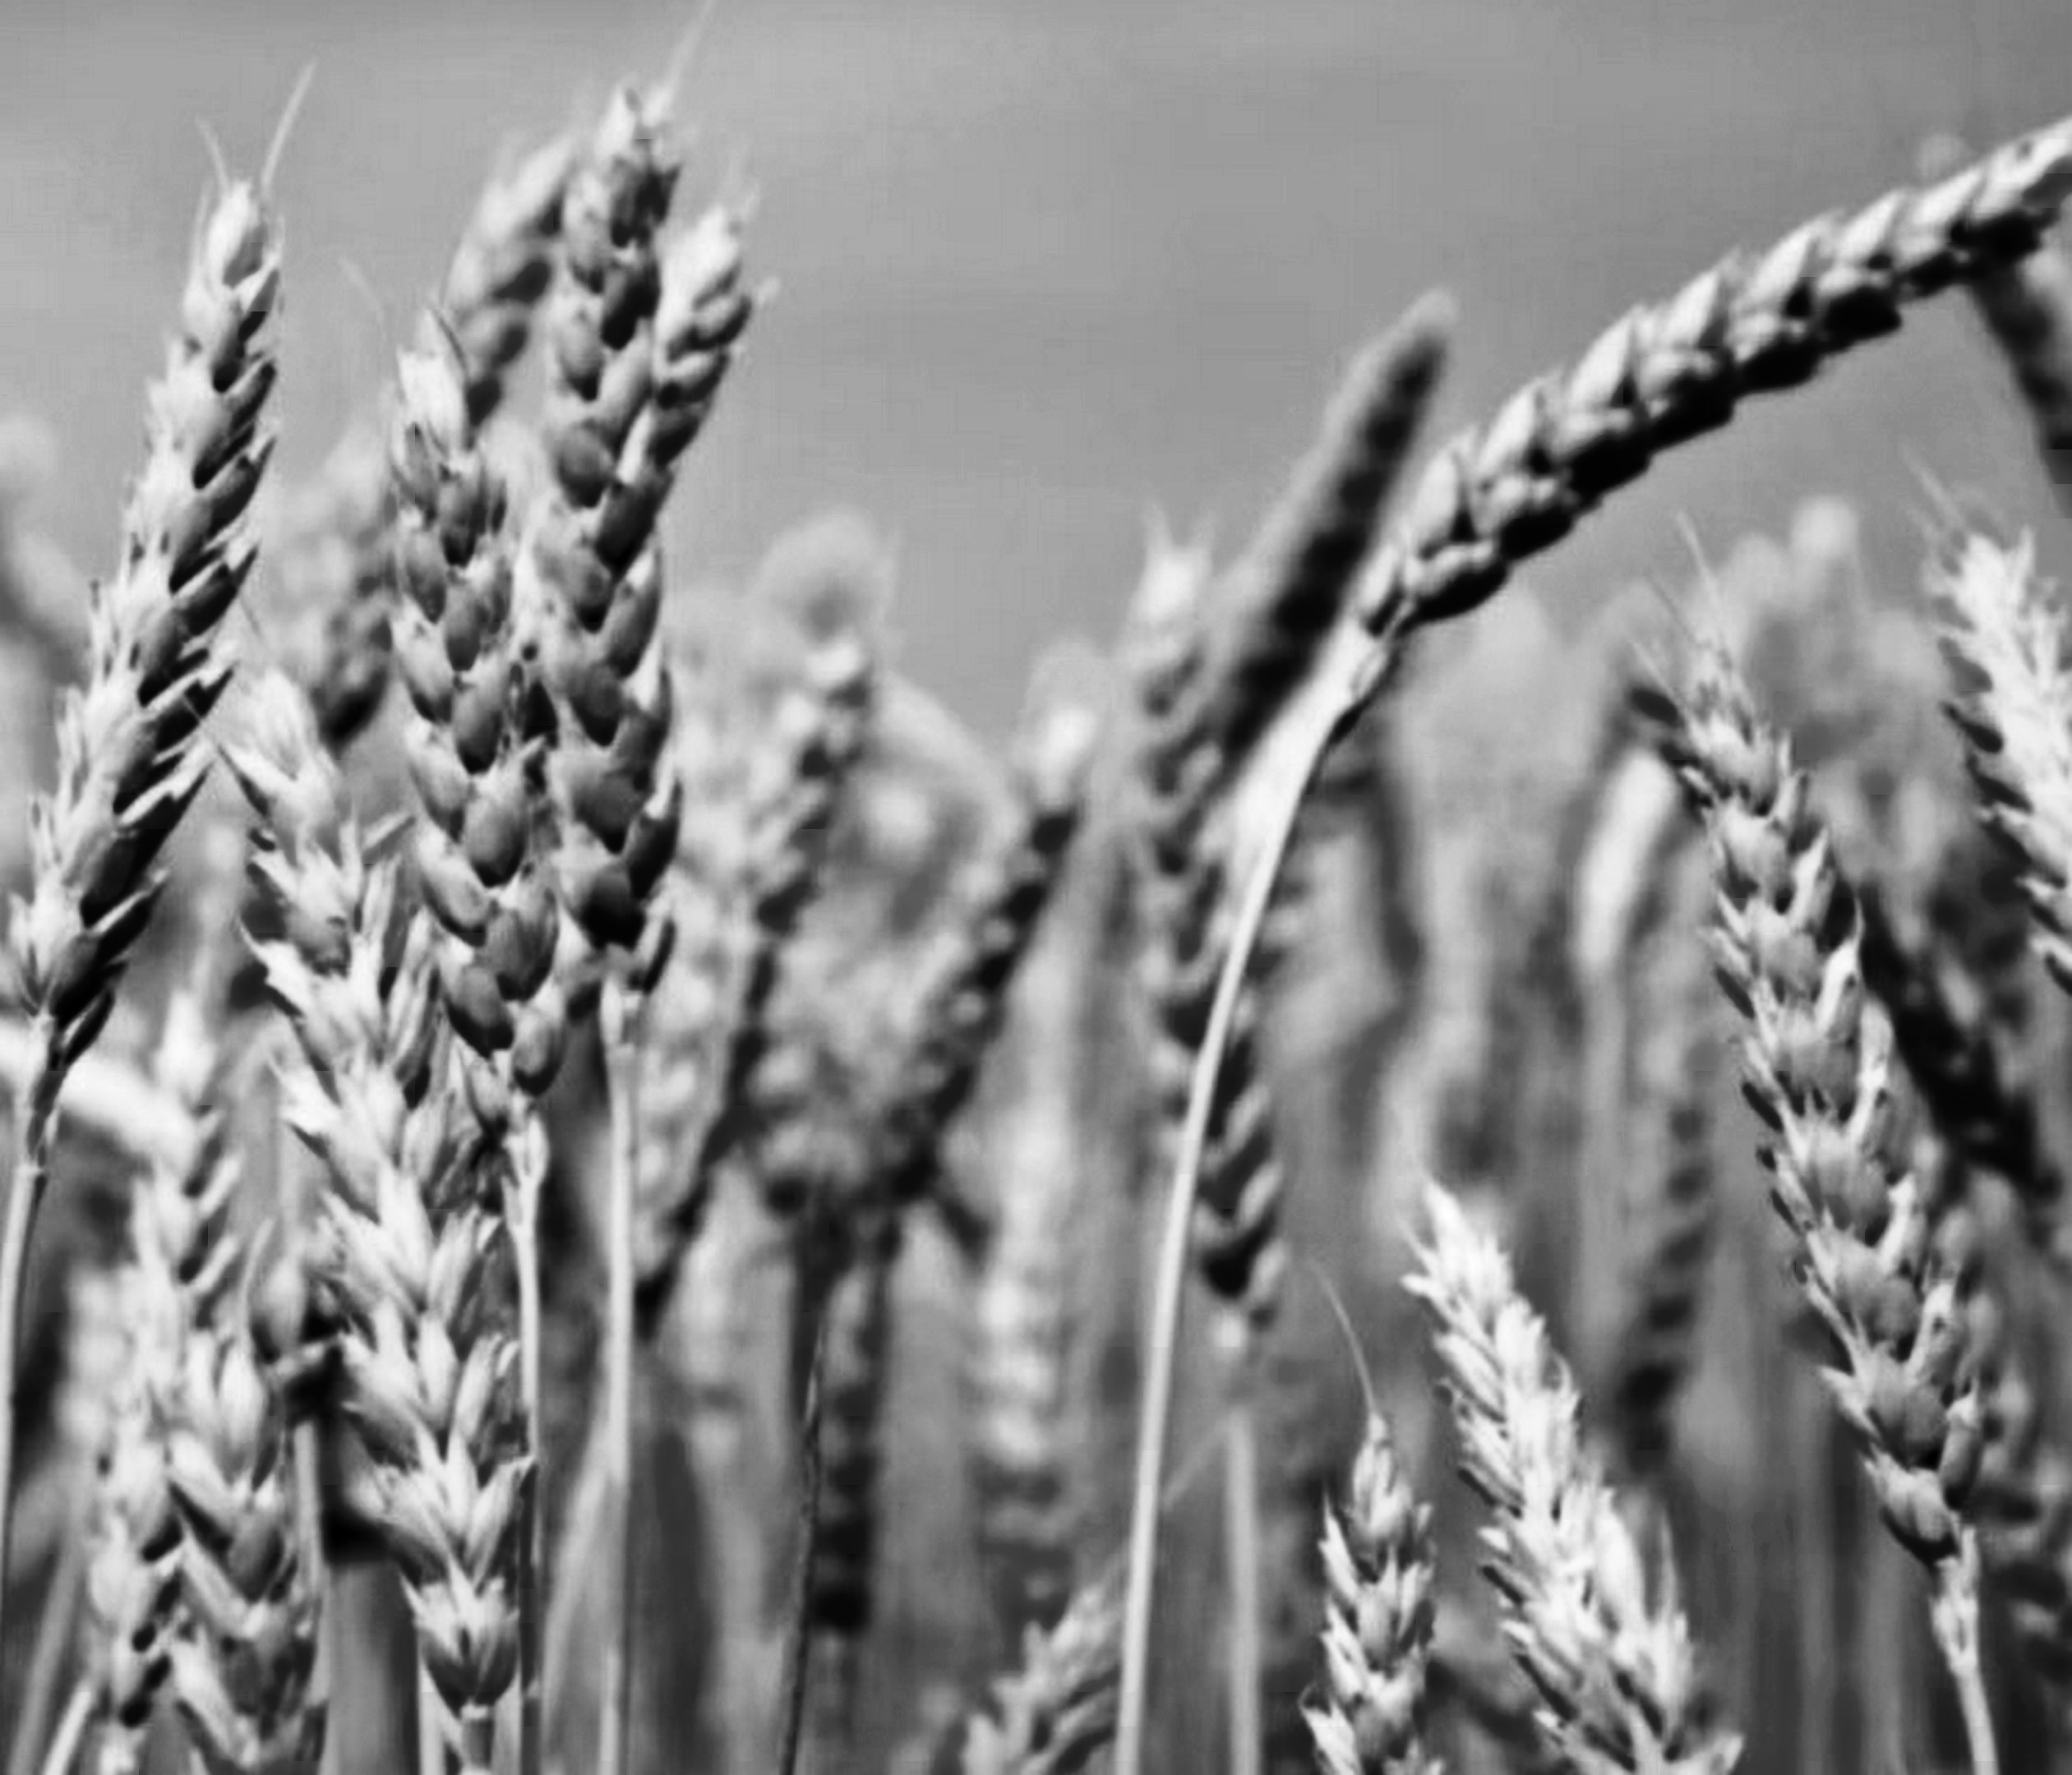Healthy Wheat: (1664, 653, 1986, 1553), (9, 153, 317, 995)
